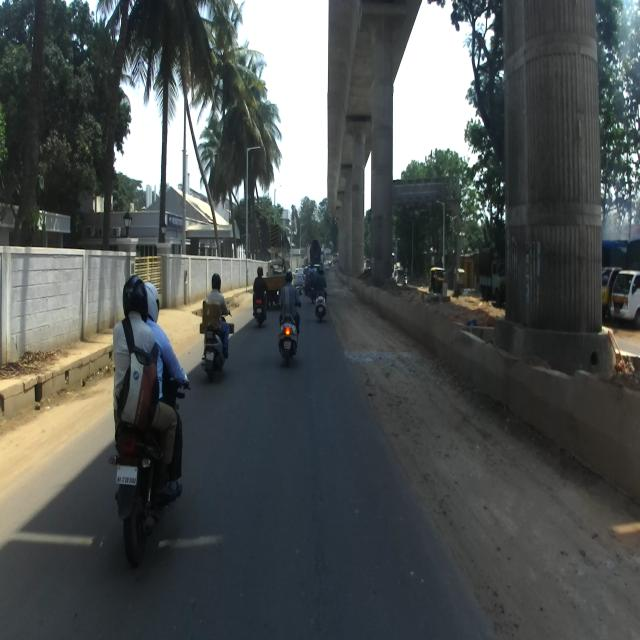motorcycle ahead at: (111, 419, 193, 556)
